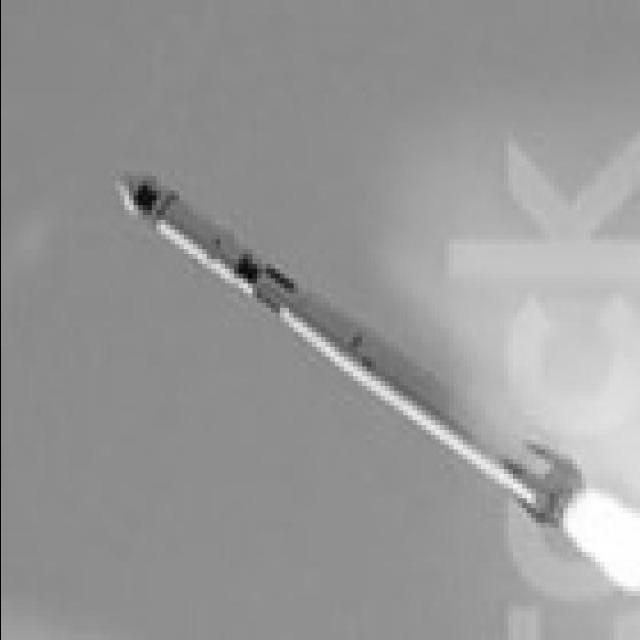missile: (102, 157, 591, 532)
